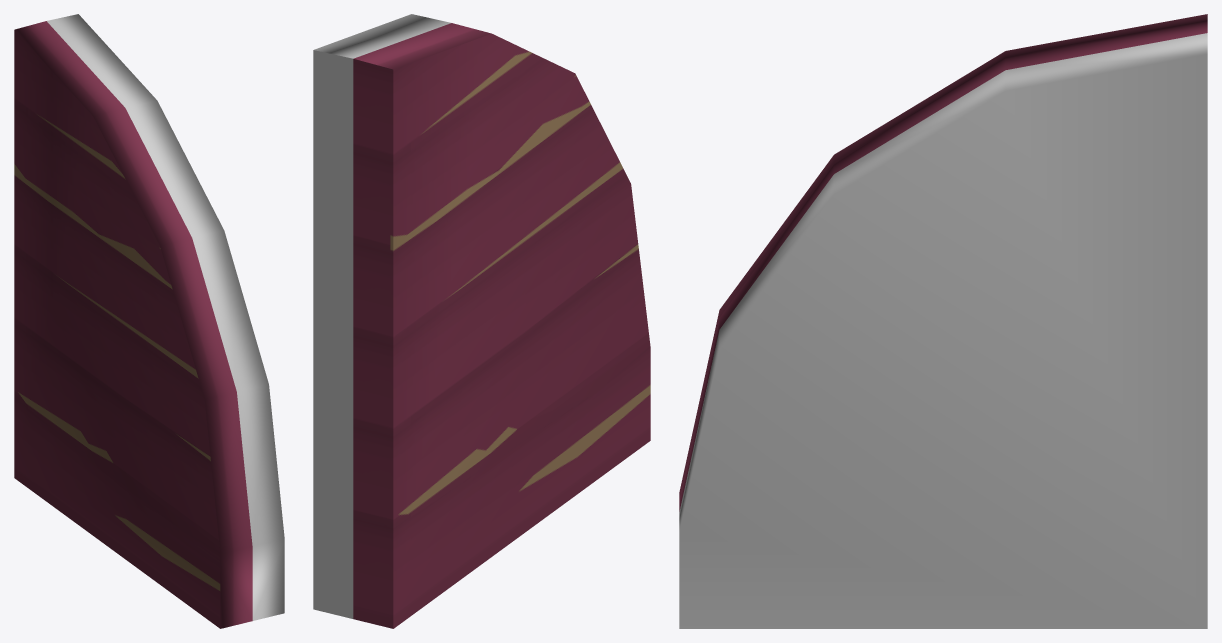
The model's file is SM_Bld_Roof_S_Convex_Wall_01.fbx.
3 renders of one model, left to right at view 1: azimuth 30°, elevation 25°; view 2: azimuth 150°, elevation 25°; view 3: azimuth 270°, elevation 25°, orthographic. The views are drawn at different scales.
Visible parts, largest first — view 1: SM_Bld_Roof_S_Convex_Wall_01; view 2: SM_Bld_Roof_S_Convex_Wall_01; view 3: SM_Bld_Roof_S_Convex_Wall_01.
Boxes of the visible parts, x1,y1,x2,y2 form: SM_Bld_Roof_S_Convex_Wall_01: (14, 14, 284, 628); SM_Bld_Roof_S_Convex_Wall_01: (313, 14, 650, 628); SM_Bld_Roof_S_Convex_Wall_01: (679, 14, 1207, 628).
Bounding box in the file's own units: 22.5 × 150 × 125.
